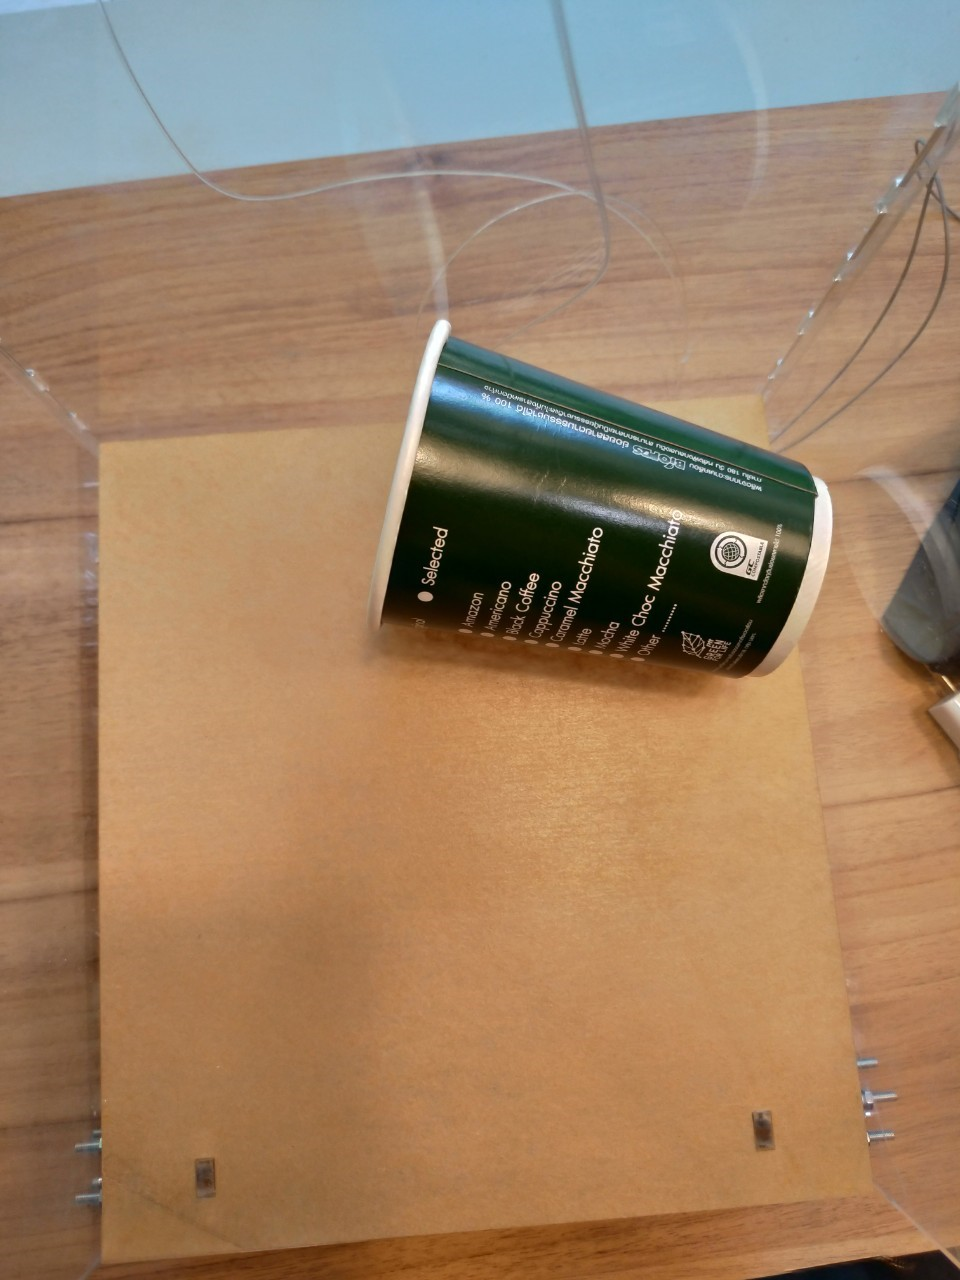PaperCup: (369, 319, 837, 676)
